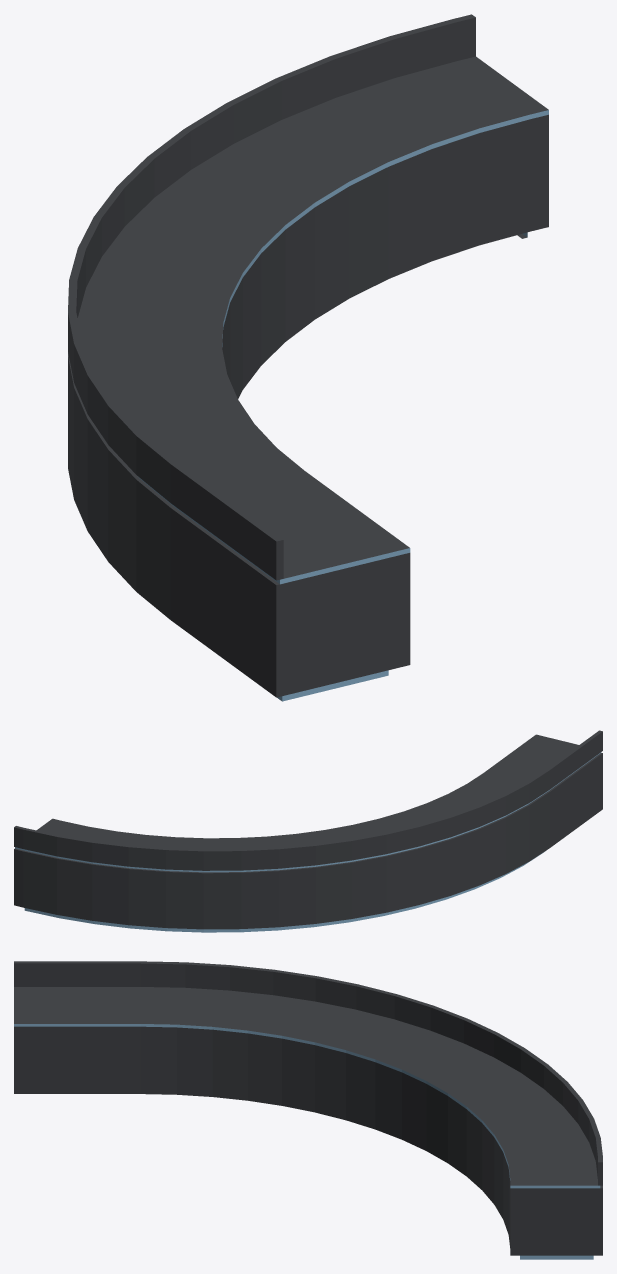
Rendered from info_desk.fbx.
The picture shows the model from 3 angles, top to bottom: view 1: azimuth 30°, elevation 25°; view 2: azimuth 150°, elevation 25°; view 3: azimuth 270°, elevation 25°; orthographic projection. The views are drawn at different scales.
Visible parts, largest first — view 1: right_info_desk; view 2: right_info_desk; view 3: right_info_desk.
Boxes of the visible parts, box(x1,y1,x2,y2) form: right_info_desk: box(68, 14, 548, 701); right_info_desk: box(14, 730, 602, 932); right_info_desk: box(14, 961, 602, 1259).
Size of the model in its own units: 552 by 130 by 685.
